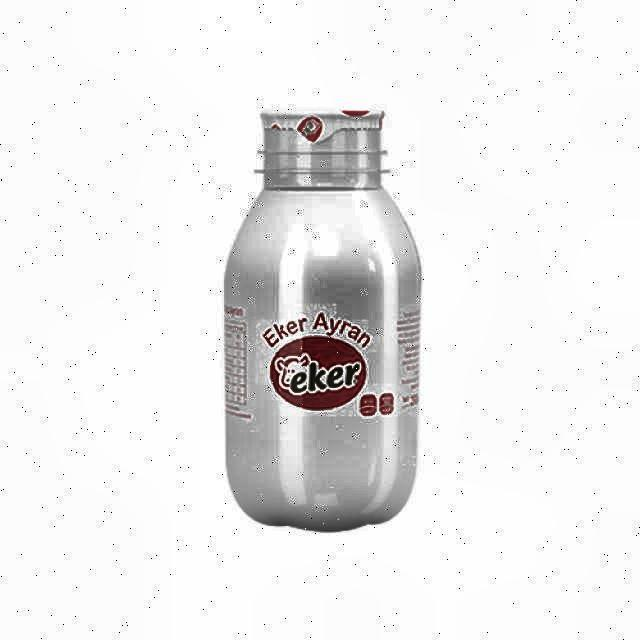plastic: (224, 109, 423, 535)
